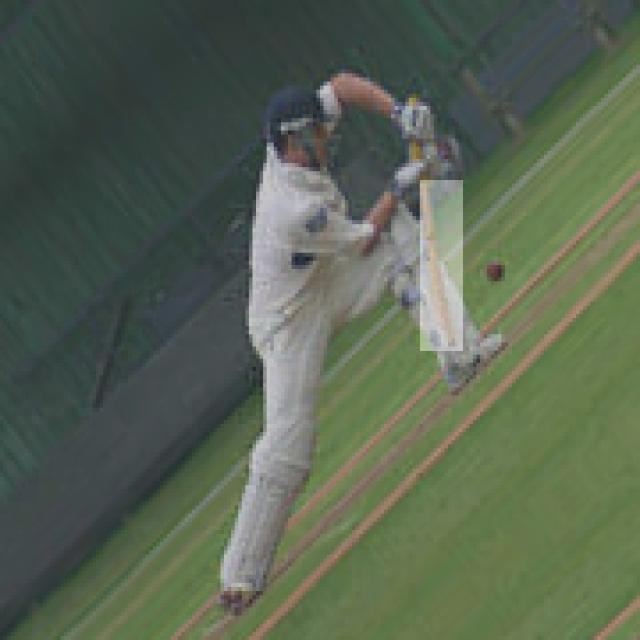bat: (420, 181, 467, 351)
